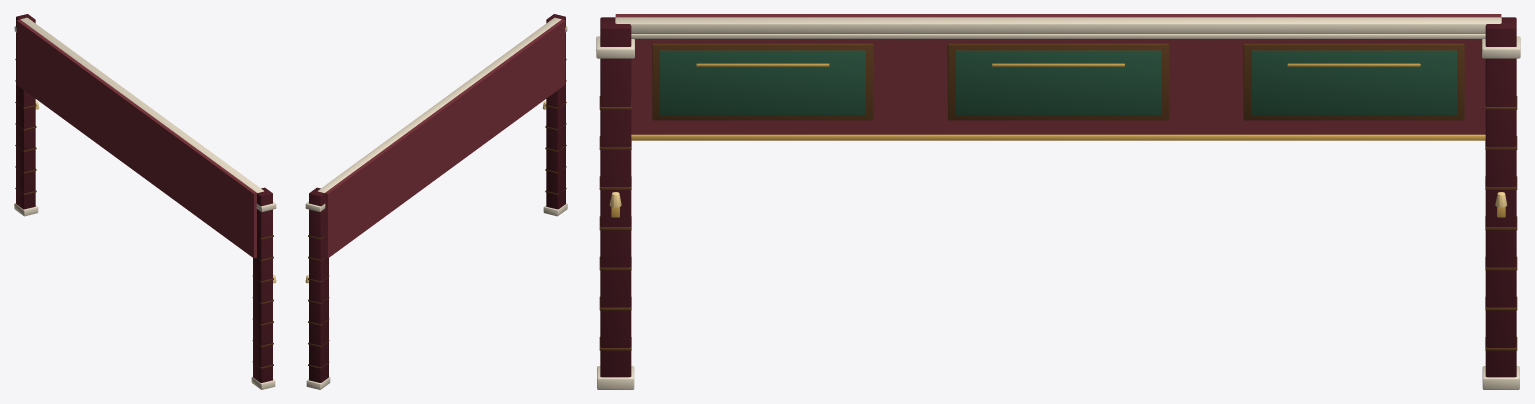
Rendered from HallWall.fbx.
3 renders of one model, left to right at view 1: azimuth 30°, elevation 25°; view 2: azimuth 150°, elevation 25°; view 3: azimuth 270°, elevation 25°, orthographic. The views are drawn at different scales.
Parts seen in each view (by area): view 1: HallWall; view 2: HallWall; view 3: HallWall.
Part boxes in pixels (x1=…): HallWall: x1=14, y1=14, x2=276, y2=389; HallWall: x1=305, y1=14, x2=567, y2=389; HallWall: x1=596, y1=14, x2=1520, y2=389.
Size of the model in its own units: 432 by 3605 by 8350.
